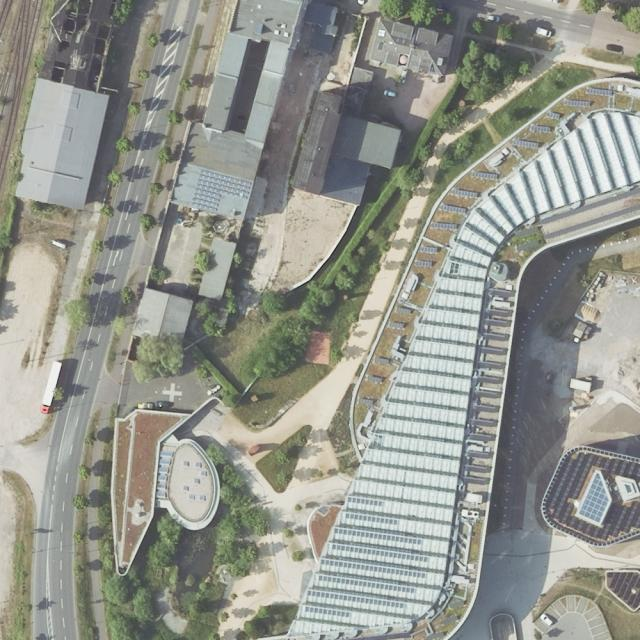PV: (305, 496, 430, 618), (546, 453, 640, 542), (514, 203, 640, 253), (539, 187, 640, 224), (189, 168, 251, 215), (608, 571, 640, 611), (439, 204, 467, 215), (562, 99, 591, 109), (472, 171, 499, 181), (515, 226, 539, 237), (511, 139, 539, 148), (450, 189, 478, 198), (467, 450, 490, 460), (483, 332, 506, 342), (472, 404, 497, 413), (478, 361, 500, 371), (469, 418, 493, 427), (478, 375, 499, 385), (430, 221, 456, 229), (462, 477, 486, 485), (483, 319, 507, 327), (464, 464, 485, 473), (481, 347, 502, 356), (587, 88, 612, 95), (468, 432, 489, 440), (489, 289, 510, 297), (530, 125, 550, 133), (419, 245, 439, 253), (475, 392, 497, 399), (483, 310, 508, 316), (415, 261, 433, 269), (544, 112, 560, 120), (388, 322, 404, 330), (375, 356, 389, 364), (357, 398, 374, 404), (367, 376, 383, 382)
